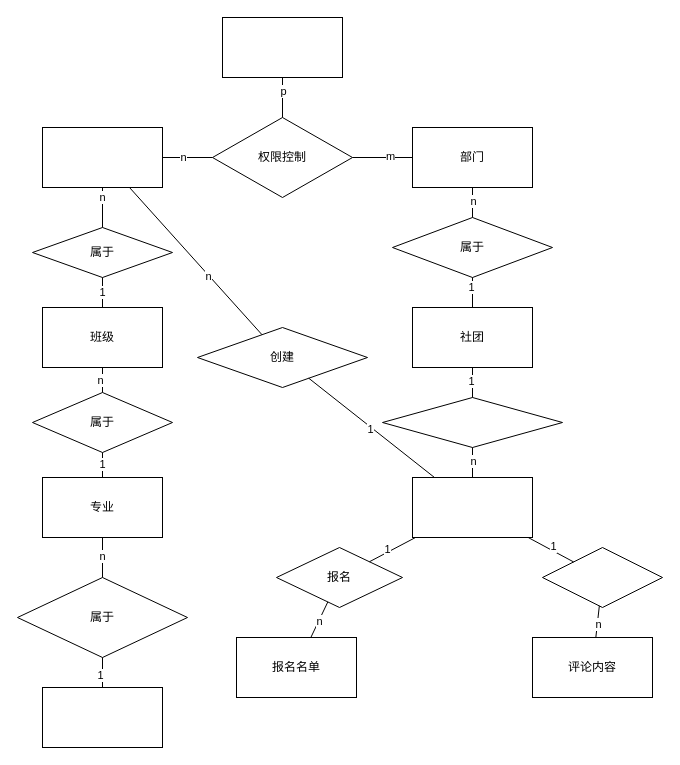
Some shapes in this 680 by 765 pixel diagram are drawn without their labels. Here are the shapes that lost their labels. From the top down, the box of each, then its label:
(222, 16, 342, 78): 权限
(42, 126, 162, 188): 用户
(382, 396, 562, 448): 发布
(412, 476, 532, 538): 文章
(542, 546, 662, 608): 评论
(42, 686, 162, 748): 学院
